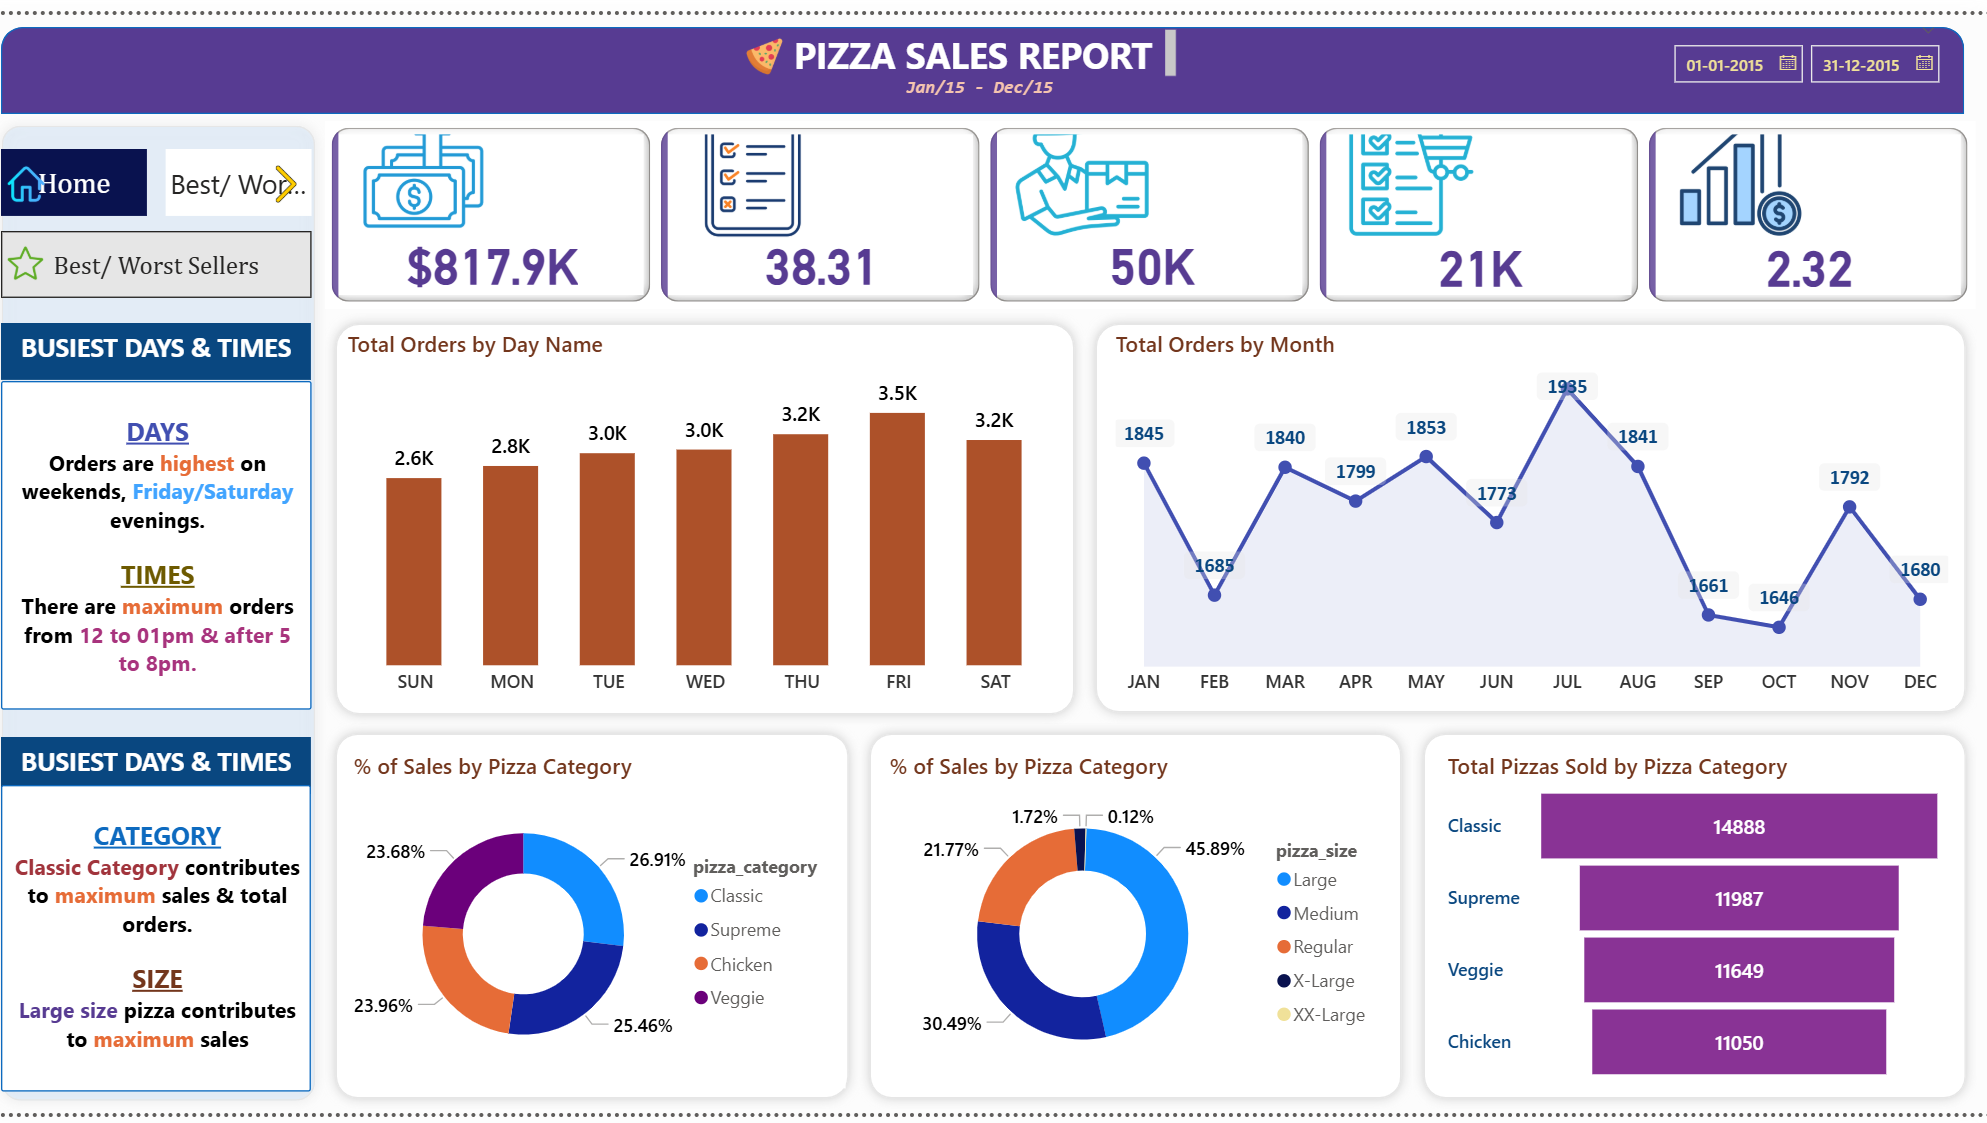

The page's visual inventory and layout, read from the dashboard file:
{"tool":"powerbi","page":{"name":"Home","canvas":[1500,820],"ordinal":0},"visuals":[{"type":"shape","box":[15.5,8.5,1466.6,65],"z":0},{"type":"textbox","box":[601.9,5.4,295.5,44.9],"z":1000},{"type":"image","box":[566.5,12.3,38.1,38.1],"z":2000},{"type":"textbox","box":[106,9.9,158.2,41],"z":3000},{"type":"slicer","fields":{"Values":["pizza_sales.order_date"]},"box":[1252.5,3.9,220.1,73.4],"z":6000},{"type":"textbox","box":[686.3,39.5,128,30],"z":7000},{"type":"shape","box":[7.2,74.5,250.1,744.2],"z":8000},{"type":"shape","box":[257.4,222,567.8,307.7],"z":9000},{"type":"cardVisual","fields":{"Data":["pizza_sales.Total Revenue","pizza_sales.Avg Order Value","pizza_sales.Total Pizzas Sold","pizza_sales.Total Orders","pizza_sales.Avg Pizzas Per Order"]},"box":[257.5,79.8,1233.2,140.3],"z":10000},{"type":"shape","box":[257.5,529.1,399.1,288.4],"z":11000},{"type":"shape","box":[825.2,223.3,665.9,306.4],"z":12000},{"type":"areaChart","fields":{"Category":["pizza_sales.Month"],"Y":["pizza_sales.Total Orders"]},"box":[841.9,234.3,632.1,283.2],"z":13000},{"type":"columnChart","fields":{"Y":["pizza_sales.Total Orders"],"Category":["pizza_sales.Day Name"]},"box":[269,234.3,544.5,283.2],"z":14000},{"type":"shape","box":[656.5,529.1,413.2,288.4],"z":15000},{"type":"shape","box":[1069.7,529.1,420.9,288.4],"z":16000},{"type":"donutChart","title":"% of Sales by Pizza Category","fields":{"Category":["pizza_sales.pizza_category"],"Y":["pizza_sales.Total Revenue"]},"box":[273.3,550.2,372.4,251.8],"z":17000},{"type":"donutChart","title":"% of Sales by Pizza Category","fields":{"Y":["pizza_sales.Total Revenue"],"Category":["pizza_sales.pizza_size"]},"box":[674.4,550.2,378.4,251.8],"z":18000},{"type":"funnel","title":"Total Pizzas Sold by Pizza Category","fields":{"Category":["pizza_sales.pizza_category"],"Y":["pizza_sales.Total Pizzas Sold"]},"box":[1090.9,550.2,380.8,251.8],"z":19000},{"type":"pageNavigator","box":[15.6,161.1,232,50.5],"z":20000},{"type":"textbox","box":[15.6,272.9,232,245.3],"z":21000},{"type":"textbox","box":[15.4,230.4,231.7,42.5],"z":22000},{"type":"textbox","box":[15.4,539.4,231.7,42.5],"z":23000},{"type":"textbox","box":[15.4,575.4,231.7,229.1],"z":24000},{"type":"pageNavigator","box":[15.6,99.8,232,50.5],"z":25000},{"type":"image","box":[11.6,106.8,43.8,37.3],"z":26000},{"type":"image","box":[209.8,108.1,37.3,37.3],"z":27000},{"type":"image","box":[11.6,167.3,42.5,36],"z":28000}]}

Visuals, with their boxes on the page's 1500x820 design canvas (x1, y1, x2, y2). These are canvas units, not pixel positions in the 1987x1123 screenshot, which may show the page scaled, cropped or inside an application window:
shape: {"x1": 16, "y1": 8, "x2": 1482, "y2": 74}
textbox: {"x1": 602, "y1": 5, "x2": 897, "y2": 50}
image: {"x1": 566, "y1": 12, "x2": 605, "y2": 50}
textbox: {"x1": 106, "y1": 10, "x2": 264, "y2": 51}
slicer - pizza_sales.order_date: {"x1": 1252, "y1": 4, "x2": 1473, "y2": 77}
textbox: {"x1": 686, "y1": 40, "x2": 814, "y2": 70}
shape: {"x1": 7, "y1": 74, "x2": 257, "y2": 819}
shape: {"x1": 257, "y1": 222, "x2": 825, "y2": 530}
cardVisual - pizza_sales.Total Revenue x pizza_sales.Avg Order Value: {"x1": 258, "y1": 80, "x2": 1491, "y2": 220}
shape: {"x1": 258, "y1": 529, "x2": 657, "y2": 818}
shape: {"x1": 825, "y1": 223, "x2": 1491, "y2": 530}
areaChart - pizza_sales.Month x pizza_sales.Total Orders: {"x1": 842, "y1": 234, "x2": 1474, "y2": 518}
columnChart - pizza_sales.Total Orders x pizza_sales.Day Name: {"x1": 269, "y1": 234, "x2": 814, "y2": 518}
shape: {"x1": 656, "y1": 529, "x2": 1070, "y2": 818}
shape: {"x1": 1070, "y1": 529, "x2": 1491, "y2": 818}
"% of Sales by Pizza Category" donutChart: {"x1": 273, "y1": 550, "x2": 646, "y2": 802}
"% of Sales by Pizza Category" donutChart: {"x1": 674, "y1": 550, "x2": 1053, "y2": 802}
"Total Pizzas Sold by Pizza Category" funnel: {"x1": 1091, "y1": 550, "x2": 1472, "y2": 802}
pageNavigator: {"x1": 16, "y1": 161, "x2": 248, "y2": 212}
textbox: {"x1": 16, "y1": 273, "x2": 248, "y2": 518}
textbox: {"x1": 15, "y1": 230, "x2": 247, "y2": 273}
textbox: {"x1": 15, "y1": 539, "x2": 247, "y2": 582}
textbox: {"x1": 15, "y1": 575, "x2": 247, "y2": 804}
pageNavigator: {"x1": 16, "y1": 100, "x2": 248, "y2": 150}
image: {"x1": 12, "y1": 107, "x2": 55, "y2": 144}
image: {"x1": 210, "y1": 108, "x2": 247, "y2": 145}
image: {"x1": 12, "y1": 167, "x2": 54, "y2": 203}
